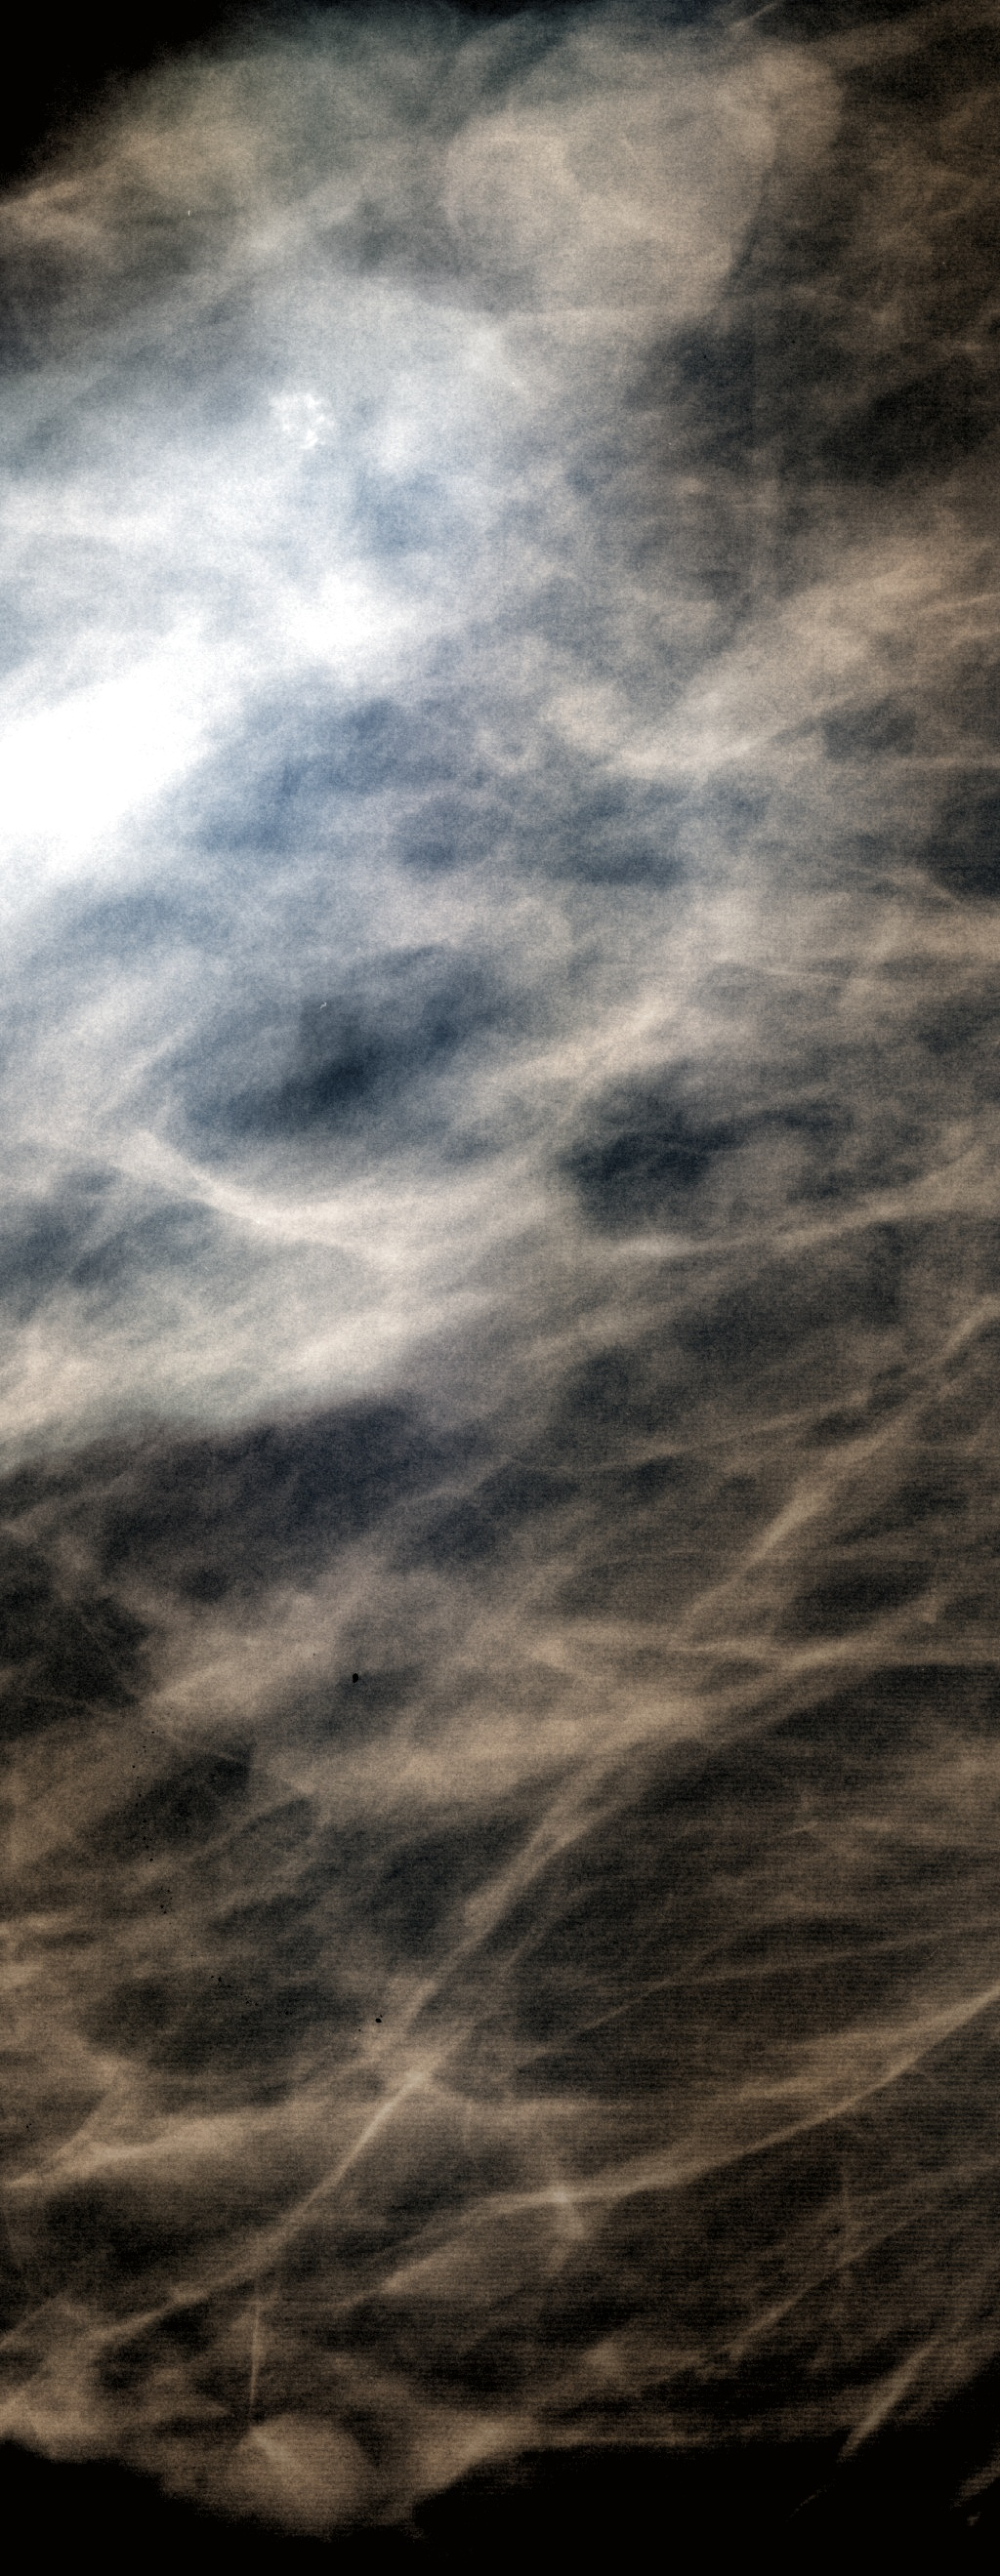tumor: (452, 0, 778, 283), (222, 2369, 488, 2576)
